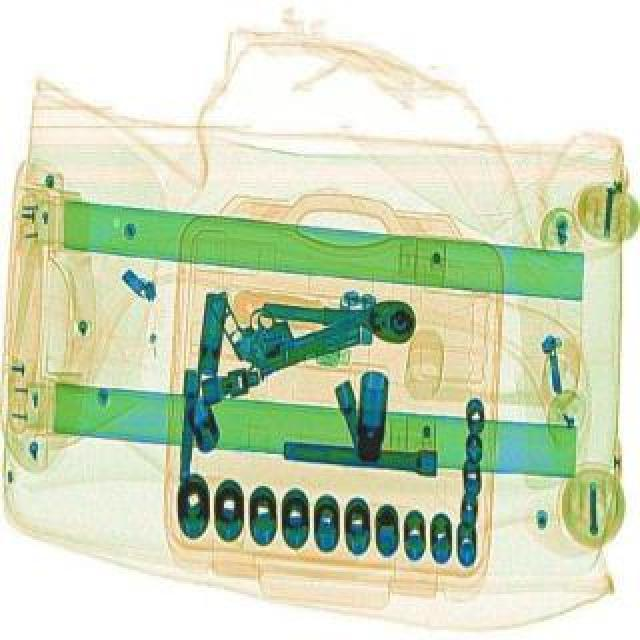gun: (206, 258, 366, 386)
